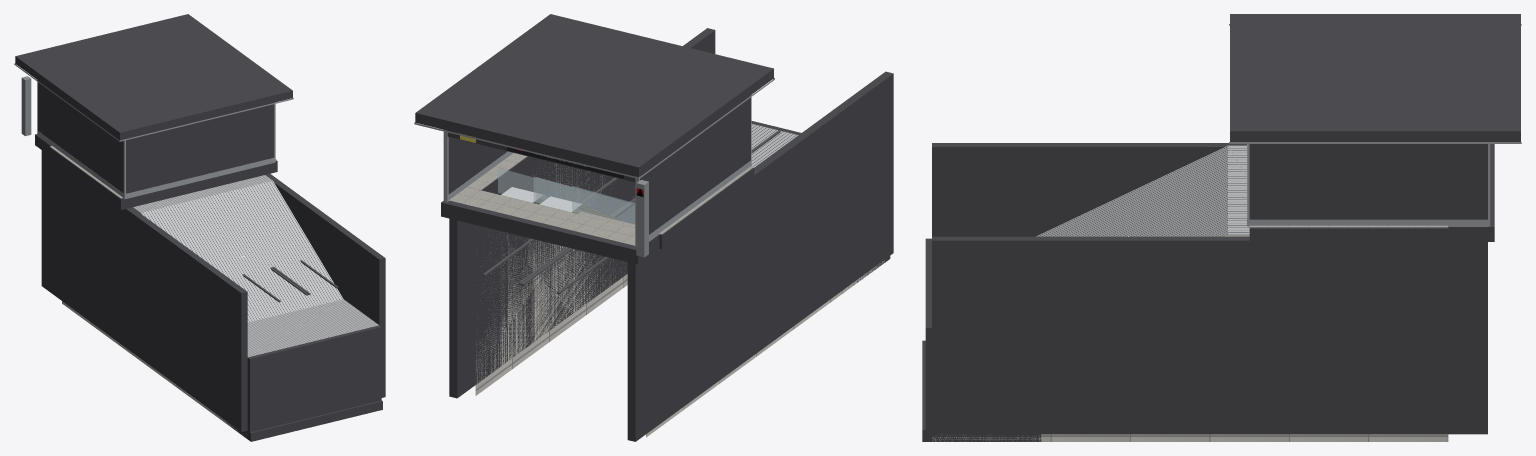
The model's file is wl80-r3-game-metro-assets-exit.glb.
3 views of the same model, side by side, from view 1: azimuth 30°, elevation 25°; view 2: azimuth 150°, elevation 25°; view 3: azimuth 270°, elevation 25° (orthographic). The views are drawn at different scales.
Visible parts, largest first — view 1: ex_col, ex_shaft, landing_cap_col, ex_kiosk; view 2: ex_col, ex_shaft, ex_kiosk; view 3: ex_col, ex_shaft, ex_kiosk, landing_cap_col.
Boxes of the visible parts, x1,y1,x2,y2 form: ex_col: [15, 14, 385, 441]; ex_shaft: [62, 175, 378, 437]; landing_cap_col: [247, 325, 381, 432]; ex_kiosk: [14, 63, 293, 199]; ex_col: [415, 14, 893, 441]; ex_shaft: [475, 124, 884, 437]; ex_kiosk: [414, 78, 774, 257]; ex_col: [922, 14, 1520, 441]; ex_shaft: [932, 145, 1448, 441]; ex_kiosk: [1229, 24, 1521, 227]; landing_cap_col: [925, 238, 931, 429].
Size of the model in its own units: 8.45 by 10.83 by 18.12.
Materials: 15 (7 with a texture image).
